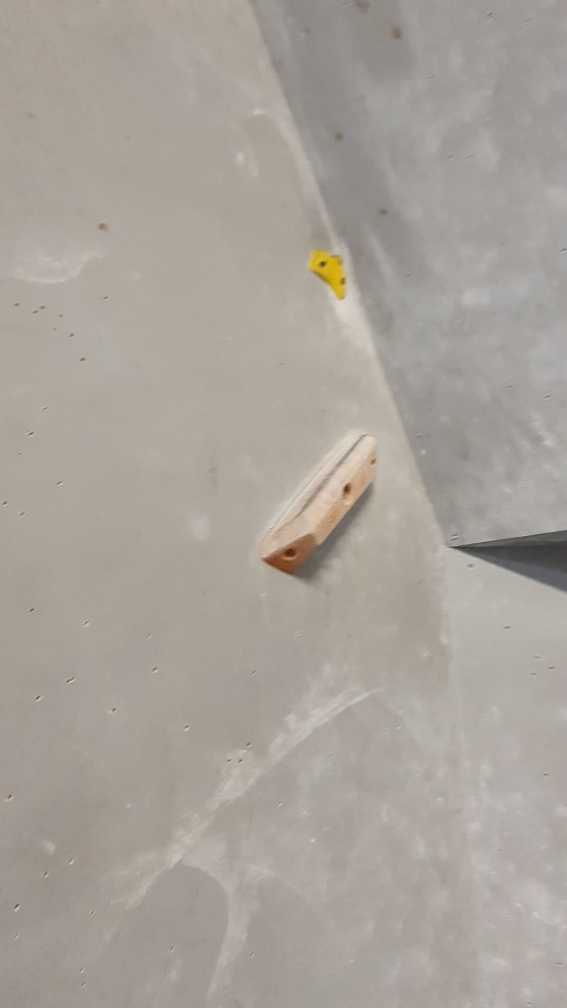Pinch: (260, 432, 380, 579)
